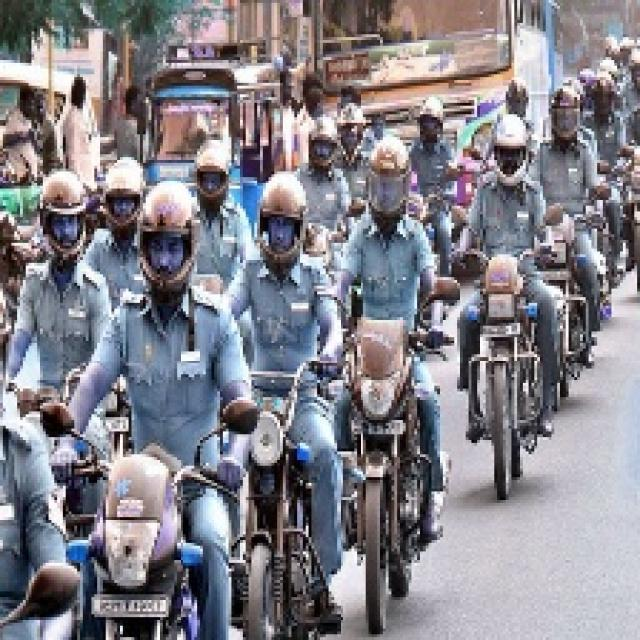bike: (334, 294, 446, 624), (75, 436, 221, 640), (222, 368, 322, 639), (466, 237, 553, 498)
